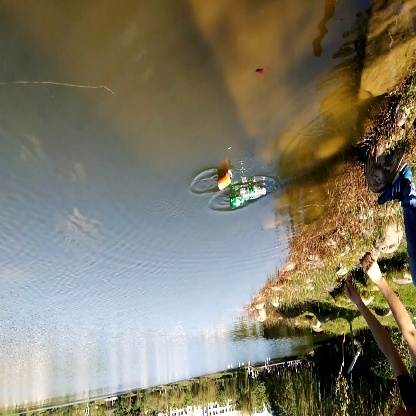bottle: (206, 167, 236, 194)
